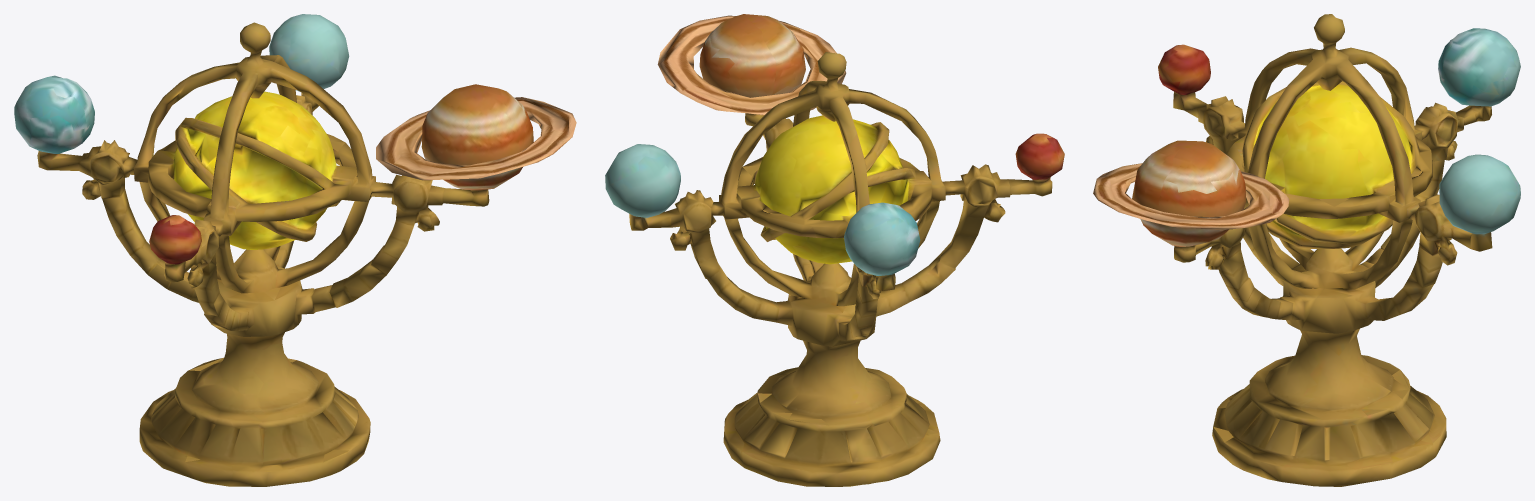
File: prop_star_orrery.glb
The picture shows the model from 3 angles, left to right: view 1: azimuth 30°, elevation 25°; view 2: azimuth 150°, elevation 25°; view 3: azimuth 270°, elevation 25°; orthographic projection. The views are drawn at different scales.
Parts seen in each view (by area): view 1: tripo_node_507cb93e-77f8-4e3f-8c65-f91249d39f40; view 2: tripo_node_507cb93e-77f8-4e3f-8c65-f91249d39f40; view 3: tripo_node_507cb93e-77f8-4e3f-8c65-f91249d39f40.
Boxes of the visible parts, x1,y1,x2,y2 form: tripo_node_507cb93e-77f8-4e3f-8c65-f91249d39f40: [14, 14, 576, 486]; tripo_node_507cb93e-77f8-4e3f-8c65-f91249d39f40: [605, 14, 1064, 486]; tripo_node_507cb93e-77f8-4e3f-8c65-f91249d39f40: [1093, 14, 1520, 486].
Size of the model in its own units: 0.9757 by 0.9365 by 0.8615.
Materials: 1 (1 with a texture image).
